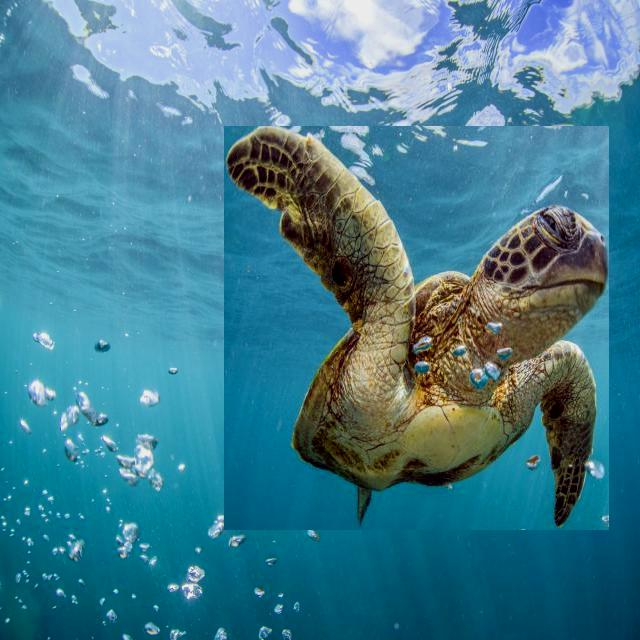Sea turtle: (224, 126, 609, 530)
